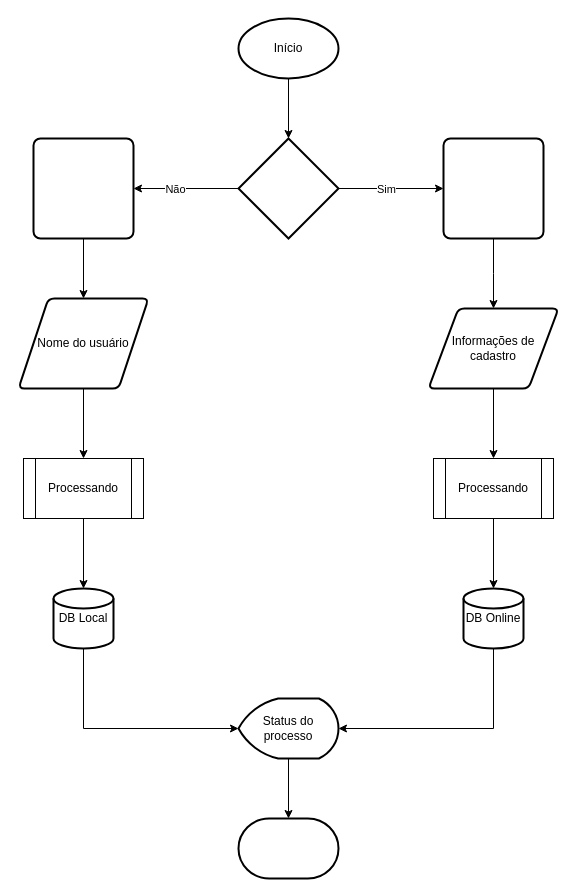
Some shapes in this 576 by 896 pixel diagram are drawn without their labels. The shapes that lost their labels are listed below. From the top down, each one's centre as x and y in pixels, then its label:
At point 83,188: "Acesso anonimo".
At point 288,188: "Efetuar cadastro?".
At point 493,188: "Cadastro de usuário".
At point 288,848: "Fim".
